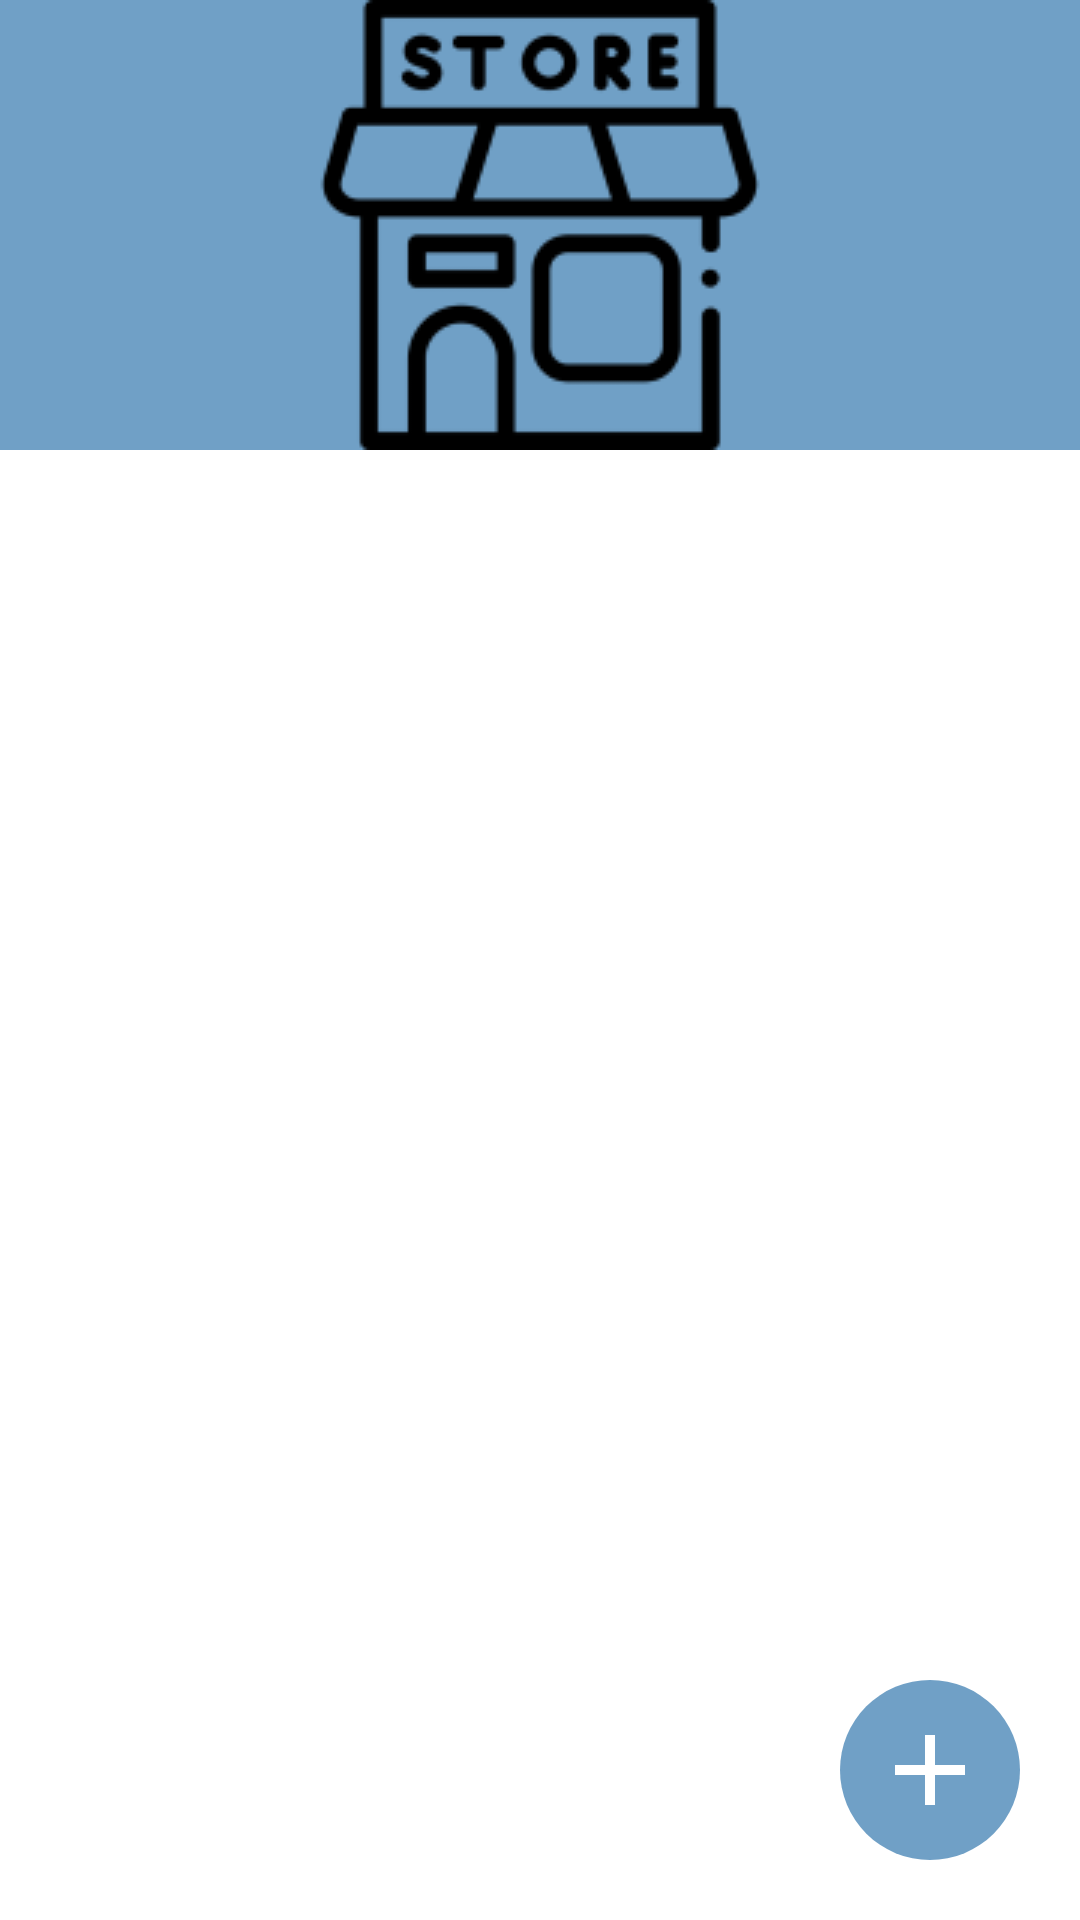

Icons on this 1080w x 1920h Android screen, each with the point to tap as [x,y]:
add: [930,1770]
